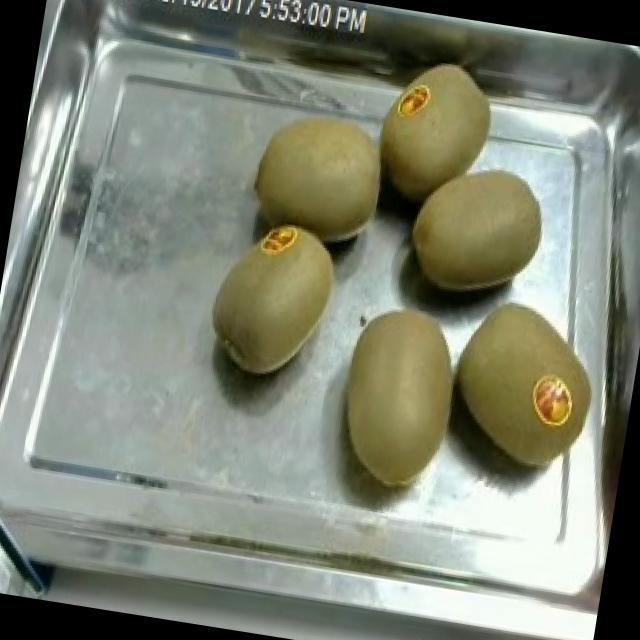Fruit: (318, 284, 482, 506), (435, 288, 615, 488), (196, 204, 353, 394), (391, 146, 564, 318), (360, 36, 514, 228), (240, 92, 403, 262)
